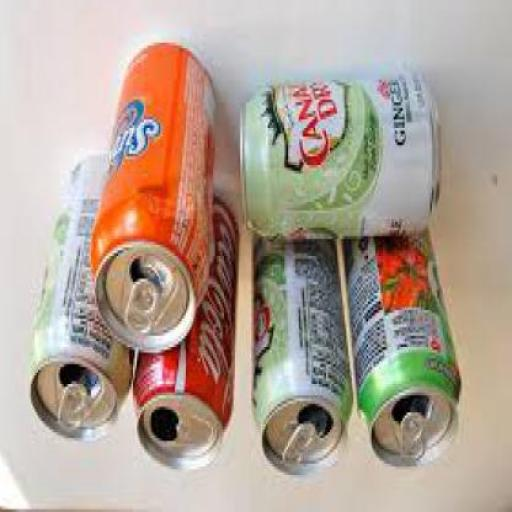metal: (95, 46, 215, 360), (241, 74, 445, 244), (31, 160, 135, 452), (133, 196, 237, 474), (344, 233, 462, 470), (253, 234, 355, 474)
